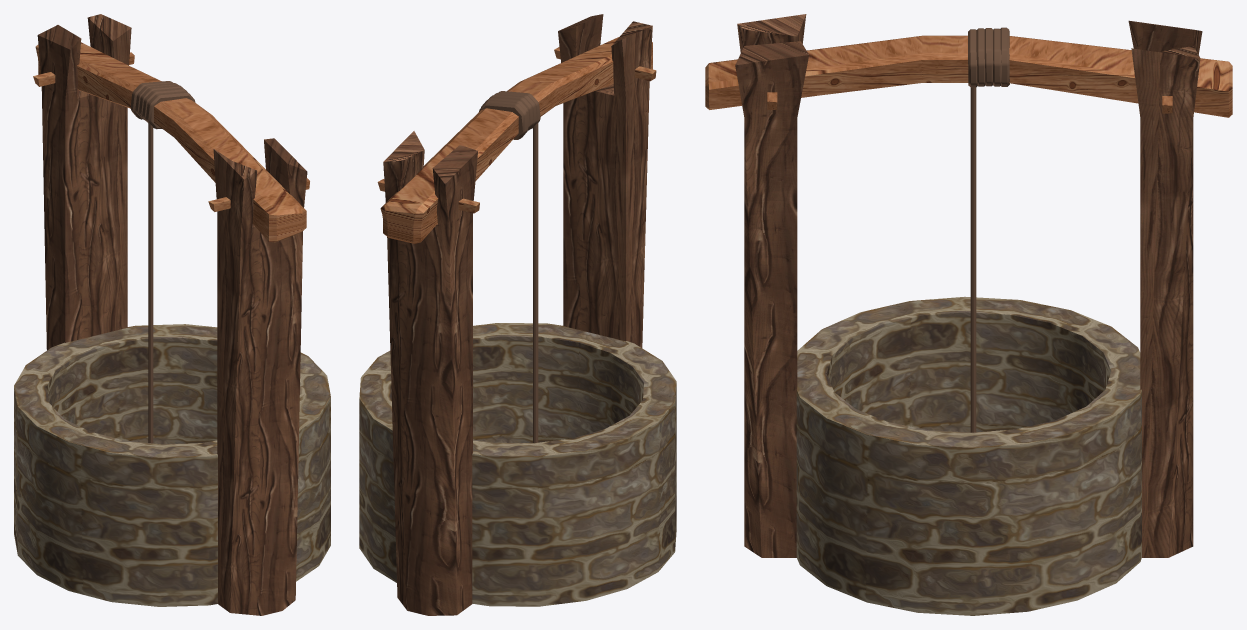
File: studna.fbx
The picture shows the model from 3 angles, left to right: view 1: azimuth 30°, elevation 25°; view 2: azimuth 150°, elevation 25°; view 3: azimuth 270°, elevation 25°; orthographic projection. The views are drawn at different scales.
Parts seen in each view (by area): view 1: pPipe7; view 2: pPipe7; view 3: pPipe7.
Part boxes in pixels (x1,y1,x2,y2): pPipe7: [14, 14, 330, 615]; pPipe7: [359, 14, 676, 615]; pPipe7: [705, 14, 1232, 615].
Size of the model in its own units: 164 by 258 by 242.
Materials: 5 (4 with a texture image).
